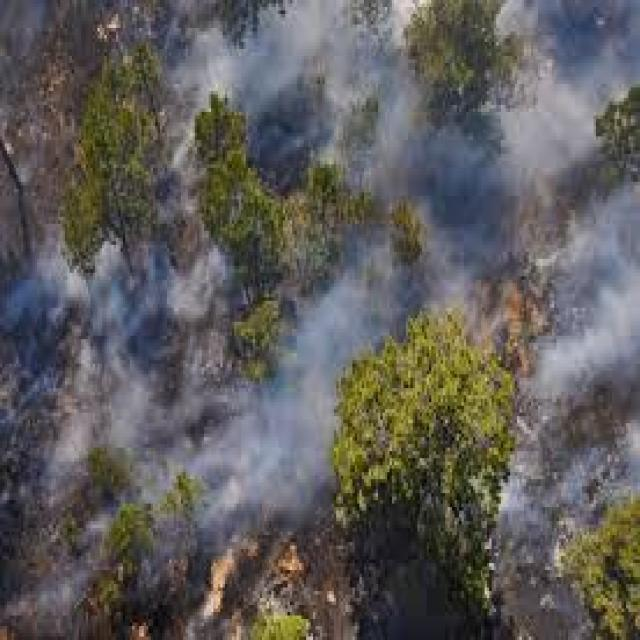Smoke: (450, 301, 640, 640)
